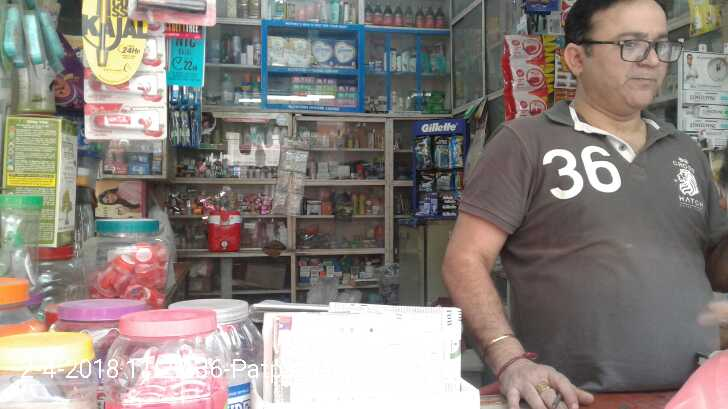oralcare: (170, 109, 181, 143), (181, 109, 191, 146), (190, 108, 199, 146)
